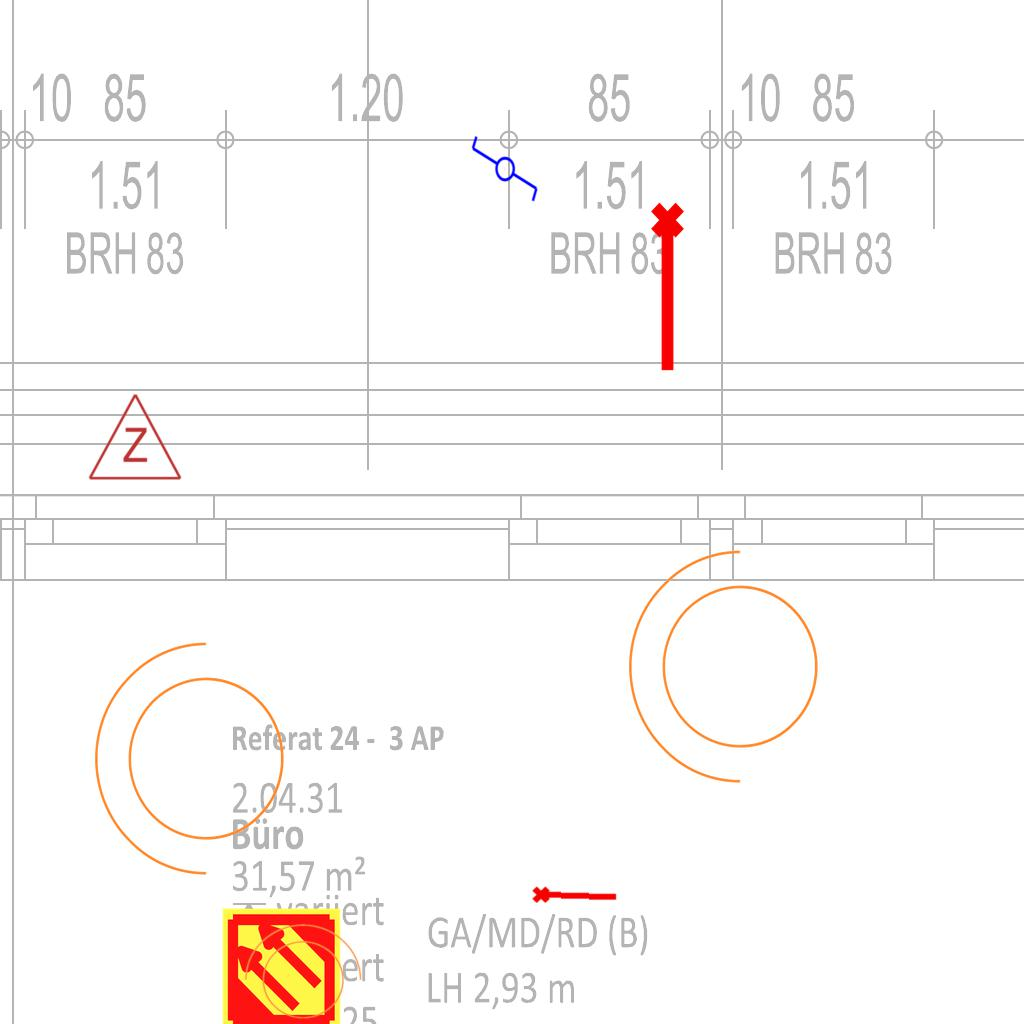ASR_Ansaugoeffnung: (647, 200, 693, 376), (530, 881, 620, 908)
ASR_Ansaugrauchmelder: (219, 906, 344, 1024)
Scheinwerfer_fuer_Alarmbeleuchtung: (618, 541, 843, 805), (84, 633, 309, 897), (234, 919, 366, 1024)
Wechselschalter: (468, 134, 540, 212)
Zimmersignalleuchte: (85, 387, 183, 487)
